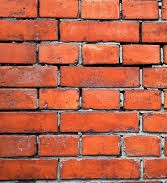brick: (60, 111, 141, 133), (60, 21, 139, 43), (60, 65, 140, 86), (61, 160, 141, 178), (1, 111, 60, 134), (1, 159, 59, 181), (1, 65, 58, 86), (1, 20, 59, 40), (39, 134, 81, 159), (39, 87, 80, 110), (39, 43, 80, 64), (123, 89, 162, 111), (1, 87, 38, 110), (123, 135, 161, 157), (1, 135, 37, 158), (82, 43, 121, 64), (82, 89, 120, 110), (82, 135, 120, 156), (1, 42, 37, 64), (123, 44, 160, 65), (39, 1, 79, 19), (80, 1, 120, 19), (120, 1, 159, 19), (1, 1, 38, 18), (141, 21, 167, 43), (142, 111, 167, 133), (142, 66, 167, 87), (143, 158, 167, 179)
